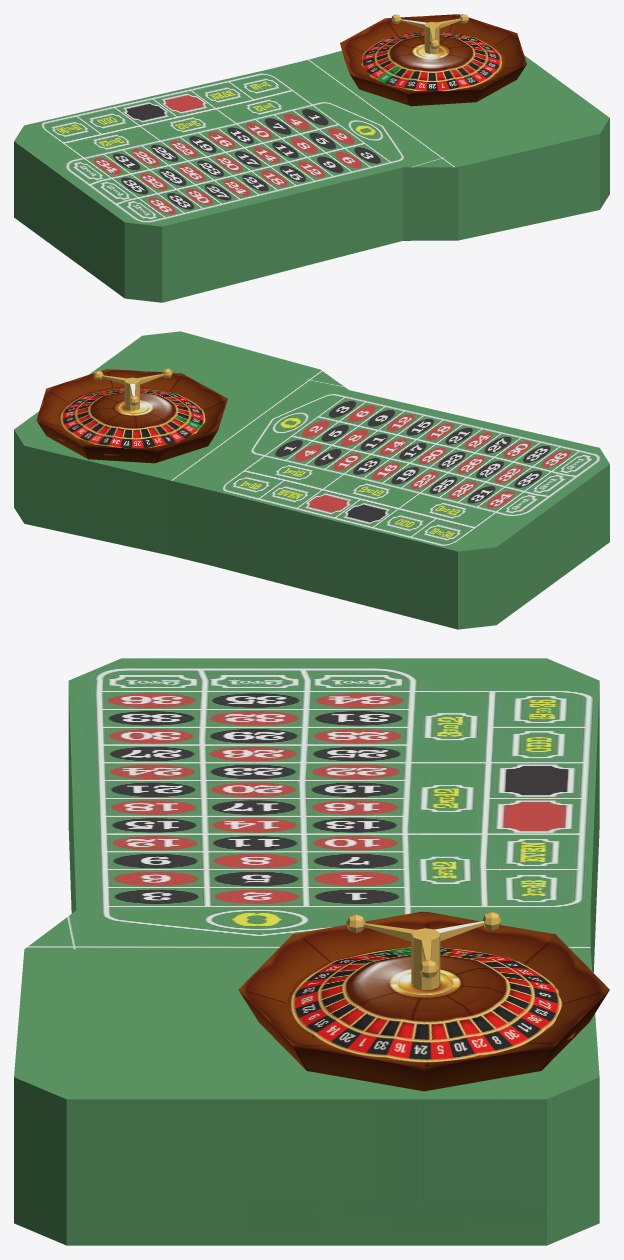
Rendered from Roulette.fbx.
3 views of the same model, one above another, from view 1: azimuth 30°, elevation 25°; view 2: azimuth 150°, elevation 25°; view 3: azimuth 270°, elevation 25° (orthographic). The views are drawn at different scales.
Visible parts, largest first — view 1: Roulette table, Roulette; view 2: Roulette table, Roulette; view 3: Roulette table, Roulette.
Boxes of the visible parts, x1,y1,x2,y2 form: Roulette table: (14,14,609,302); Roulette: (361,14,505,91); Roulette table: (14,331,609,629); Roulette: (58,368,205,455); Roulette table: (14,658,609,1245); Roulette: (285,912,575,1062).
Bounding box in the file's own units: 436 × 109 × 249.
